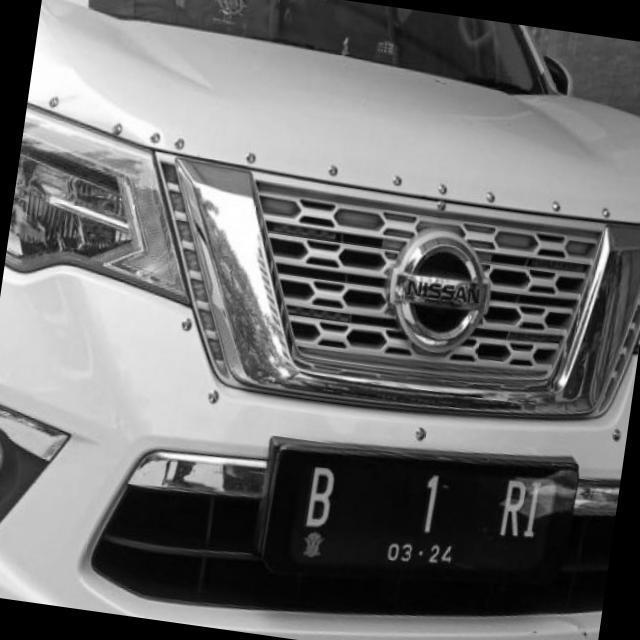1: (412, 461, 455, 546)
B: (298, 456, 347, 546)
I: (518, 471, 550, 554)
R: (494, 470, 530, 552)
